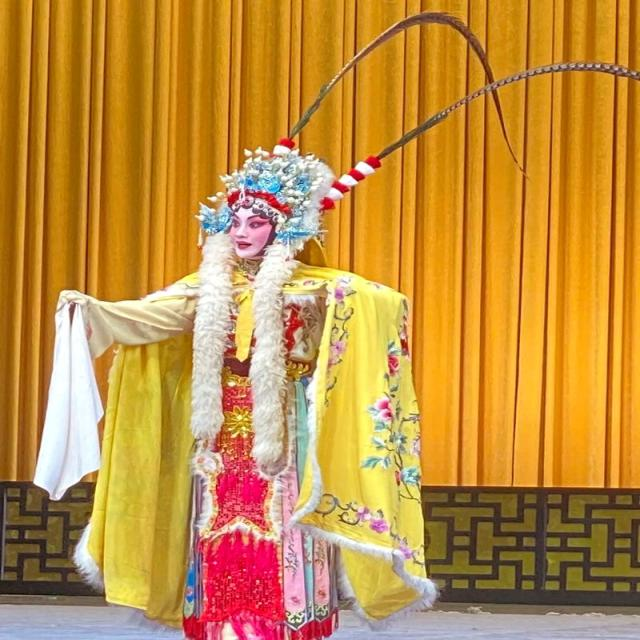Reeves-s Pheasant: (284, 12, 639, 202)
